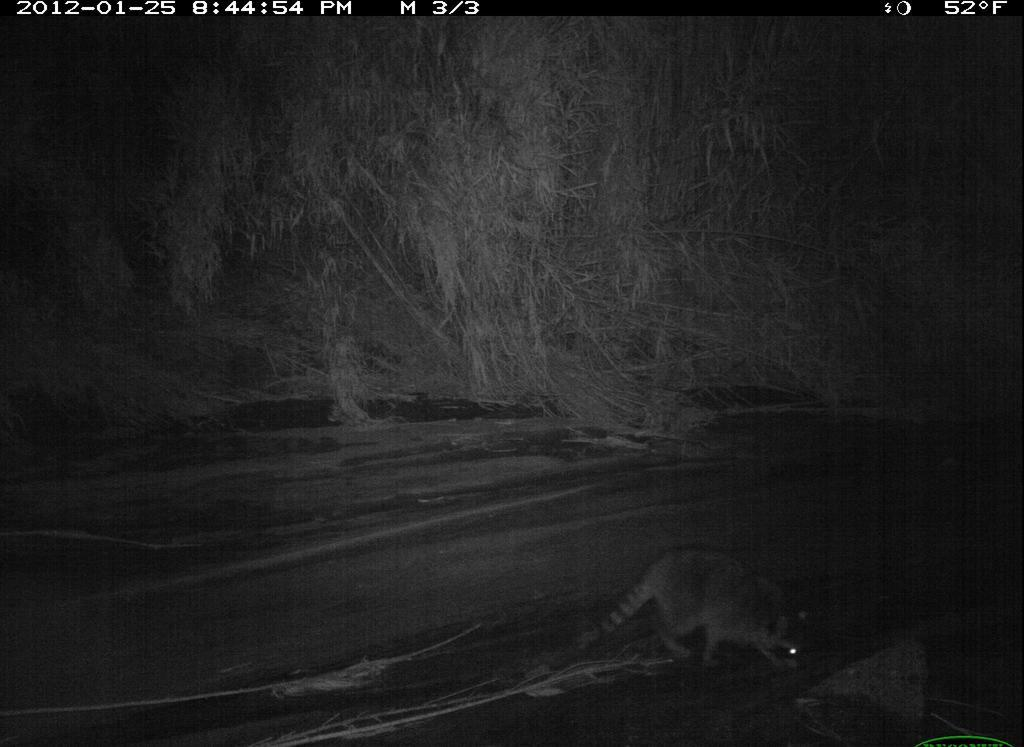raccoon: (566, 541, 821, 701)
